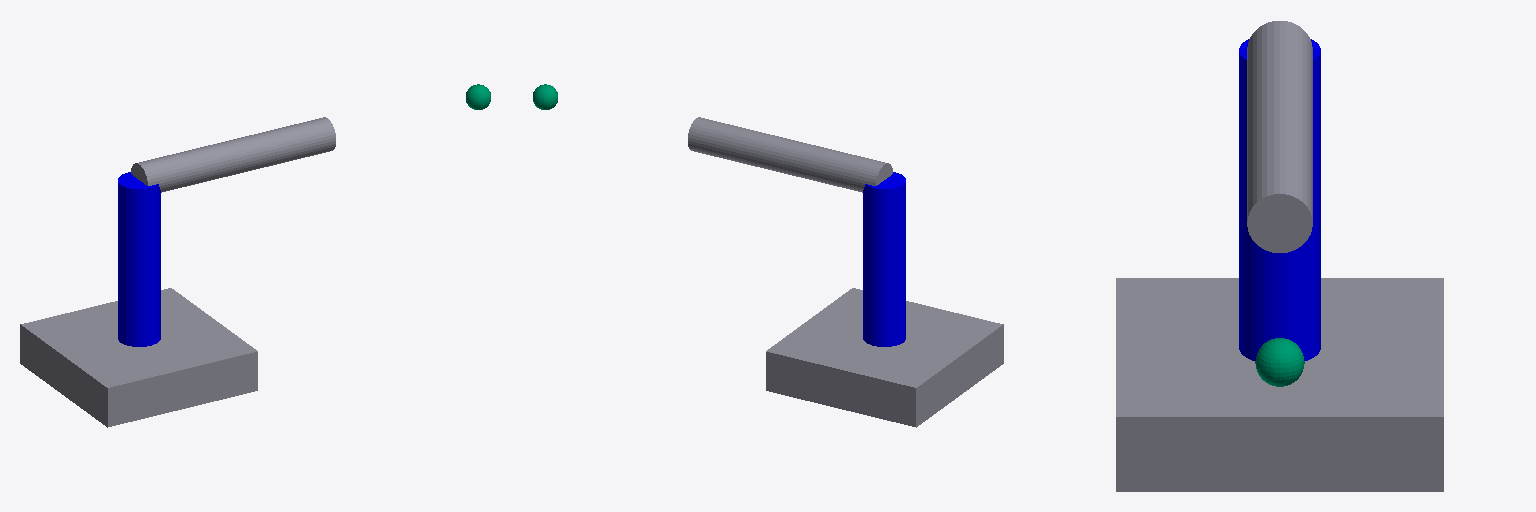
The robot description file, URDF, robot "arm":
<?xml version="1.0"?>
<!-- fixture robot -->
<robot name="arm">
  <material name="steel"><color rgba="0.6 0.6 0.65 1"/></material>
  <material name="see-through"><color rgba="1 0 0 0.5"/></material>
  <link name="base_link">
    <visual name="plate"><origin xyz="0 0 0.05" rpy="0 0 0"/><geometry><box size="0.4 0.4 0.1"/></geometry><material name="steel"/></visual>
    <visual><origin xyz="0 0 0.3"/><geometry><cylinder radius="0.05" length="0.4"/></geometry><material><color rgba="0 0 1 1"/></material></visual>
  </link>
  <link name="upper_arm">
    <visual><origin xyz="0.25 0 0" rpy="0 1.5707963 0"/><geometry><cylinder radius="0.04" length="0.5"/></geometry><material name="steel"/></visual>
  </link>
  <link name="forearm">
    <visual><origin xyz="0.2 0 0"/><geometry><mesh filename="package://arm/meshes/forearm.stl" scale="0.001 0.001 0.001"/></geometry><material name="see-through"/></visual>
    <visual><origin xyz="0.4 0 0"/><geometry><sphere radius="0.03"/></geometry></visual>
  </link>
  <link name="tool"/>
  <joint name="shoulder" type="revolute">
    <parent link="base_link"/><child link="upper_arm"/>
    <origin xyz="0 0 0.5" rpy="0 0 0"/><axis xyz="0 1 0"/>
    <limit lower="-1.57" upper="1.57" effort="10" velocity="1"/>
  </joint>
  <joint name="elbow" type="continuous">
    <parent link="upper_arm"/><child link="forearm"/>
    <origin xyz="0.5 0 0"/><axis xyz="0 1 0"/>
  </joint>
  <joint name="slide" type="prismatic">
    <parent link="forearm"/><child link="tool"/>
    <origin xyz="0.4 0 0" rpy="0 0 1.5707963"/><axis xyz="1 0 0"/>
    <limit lower="0" upper="0.1"/>
  </joint>
</robot>

--- Facts derived from the render (not from the file) ---
3 views of the same robot in one strip: view 1: azimuth 30°, elevation 25°; view 2: azimuth 150°, elevation 25°; view 3: azimuth 270°, elevation 25° (orthographic).
Model arm with 4 links and 3 joints (1 revolute, 1 continuous, 1 prismatic), rooted at base_link, posed every joint at zero.
Links seen in each view (by area): view 1: base_link, upper_arm, forearm; view 2: base_link, upper_arm, forearm; view 3: base_link, upper_arm, forearm.
Boxes of the visible links, bbox=[...] form: base_link: bbox=[20, 172, 257, 427]; upper_arm: bbox=[131, 117, 335, 192]; forearm: bbox=[466, 84, 490, 109]; base_link: bbox=[766, 172, 1003, 427]; upper_arm: bbox=[688, 117, 892, 192]; forearm: bbox=[533, 84, 557, 109]; base_link: bbox=[1116, 39, 1443, 491]; upper_arm: bbox=[1247, 21, 1312, 252]; forearm: bbox=[1255, 338, 1304, 386].
Size in the robot's own frame: 1.13 by 0.4 by 0.54 metres.
Meshes: 1 distinct files referenced, 0 mesh visuals loaded (none loaded); not drawn: 1 (reference not matched to a file when rendering).
